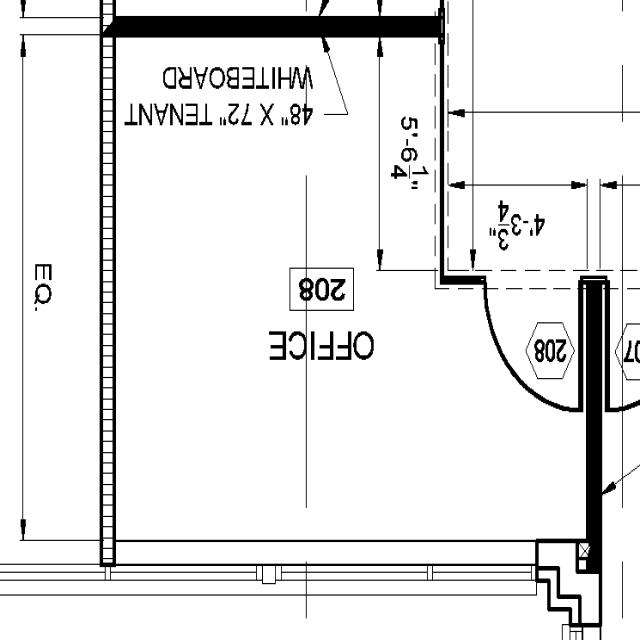Doors: (479, 266, 585, 422)
